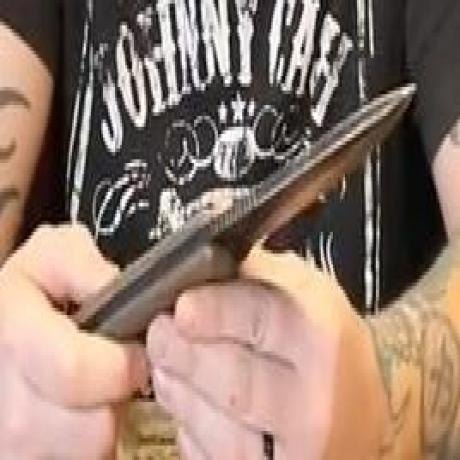1: (0, 0, 460, 460)
weapon: (215, 77, 420, 257)
